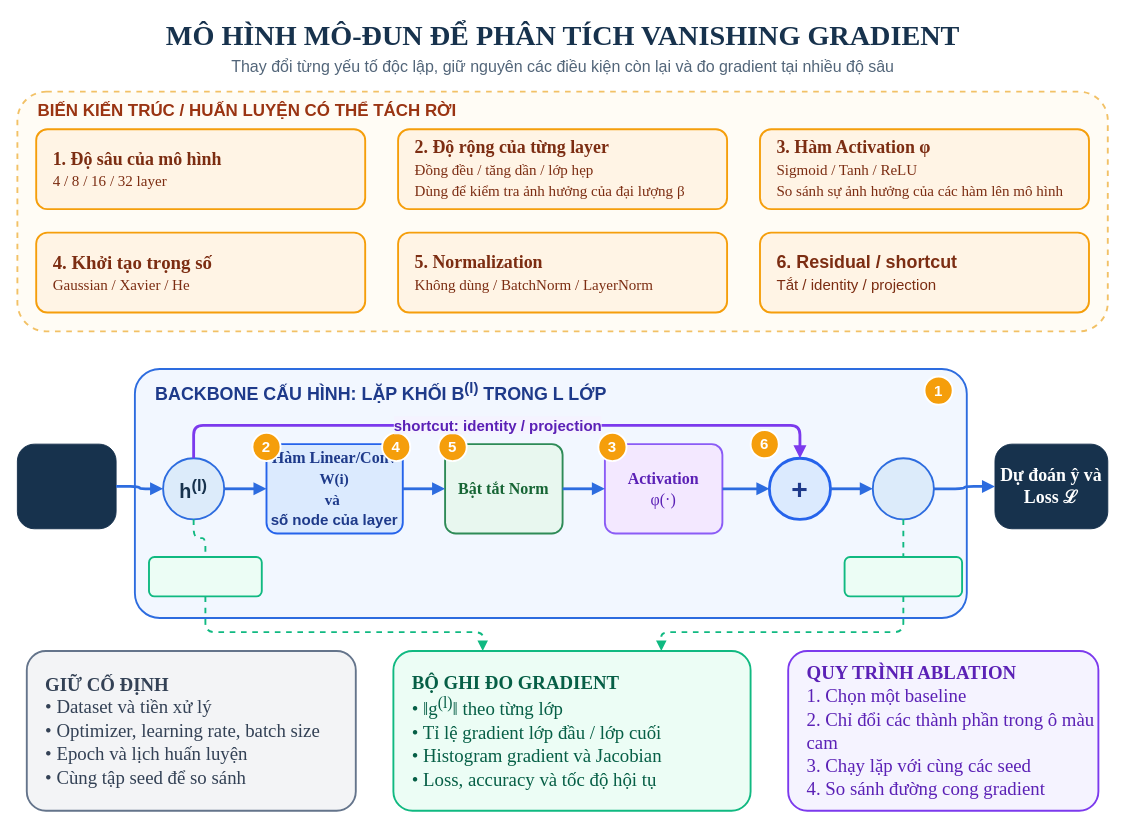
The diagram is 1124 pixels wide and 827 high, and some of its shapes have lost their labels. Here are the shapes that lost their labels. From the top down, the centre of each, then its label:
At point (66, 486): "Input X và label y".
At point (902, 488): "h (l+1)".
At point (205, 576): "Đo ‖g (l) ‖".
At point (903, 576): "Đo ‖g (l+1) ‖".
